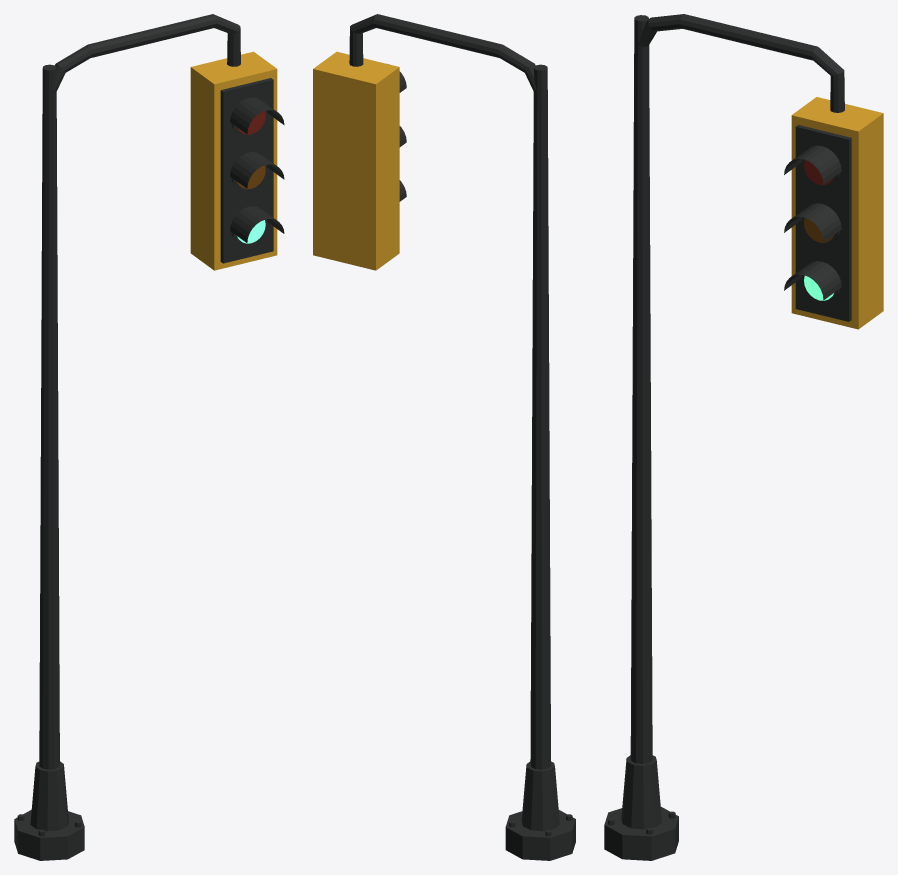
The model's file is traffic-signal.glb.
The picture shows the model from 3 angles, left to right: view 1: azimuth 30°, elevation 25°; view 2: azimuth 150°, elevation 25°; view 3: azimuth 330°, elevation 25°; orthographic projection. The views are drawn at different scales.
Visible parts, largest first — view 1: traffic-signal / black iron, traffic-signal / signal yellow; view 2: traffic-signal / black iron, traffic-signal / signal yellow; view 3: traffic-signal / black iron, traffic-signal / signal yellow.
Boxes of the visible parts, x1=… form: traffic-signal / black iron: x1=14, y1=14, x2=284, y2=860; traffic-signal / signal yellow: x1=190, y1=51, x2=277, y2=270; traffic-signal / black iron: x1=349, y1=14, x2=575, y2=860; traffic-signal / signal yellow: x1=313, y1=51, x2=399, y2=270; traffic-signal / black iron: x1=604, y1=14, x2=851, y2=860; traffic-signal / signal yellow: x1=791, y1=97, x2=883, y2=329.
Size of the model in its own units: 1.57 by 4.8 by 0.55.
